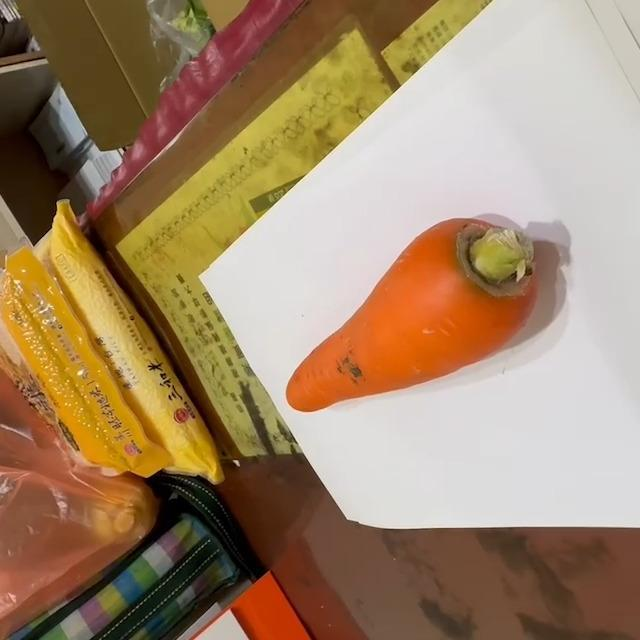carrot: (285, 215, 545, 420)
